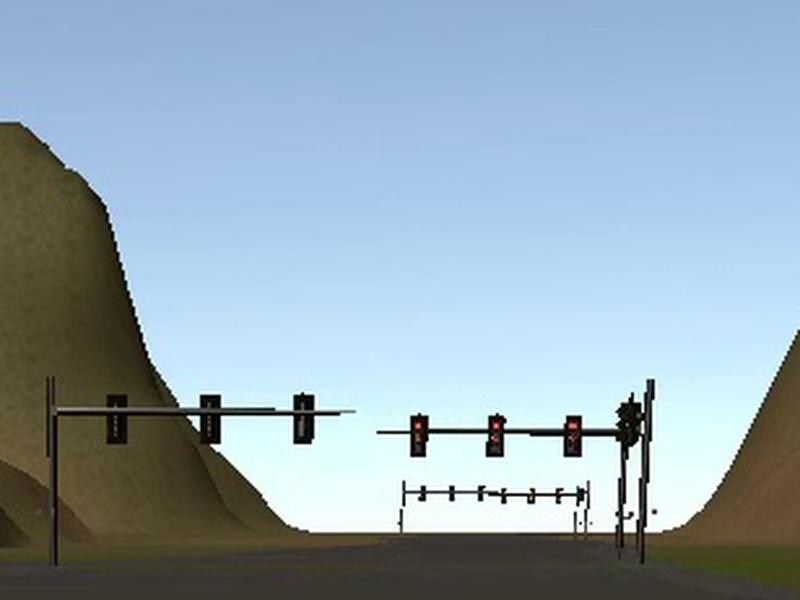Red: (484, 413, 505, 459), (409, 413, 430, 457), (566, 413, 584, 459)
